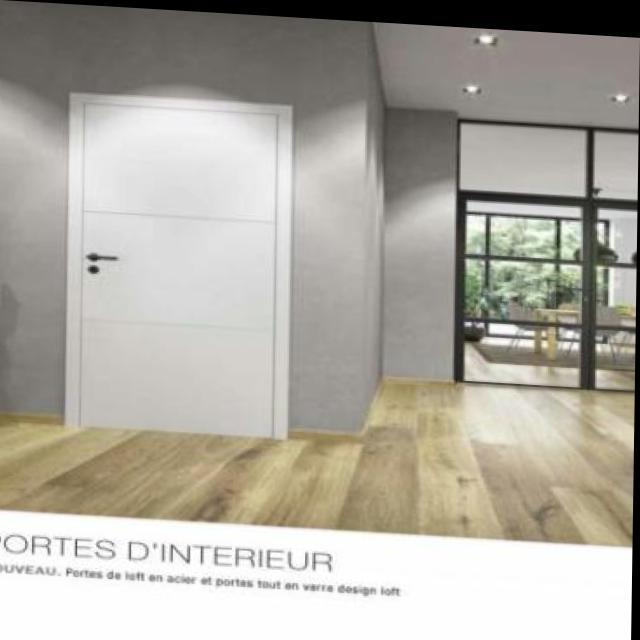door_handle: (87, 249, 126, 268)
